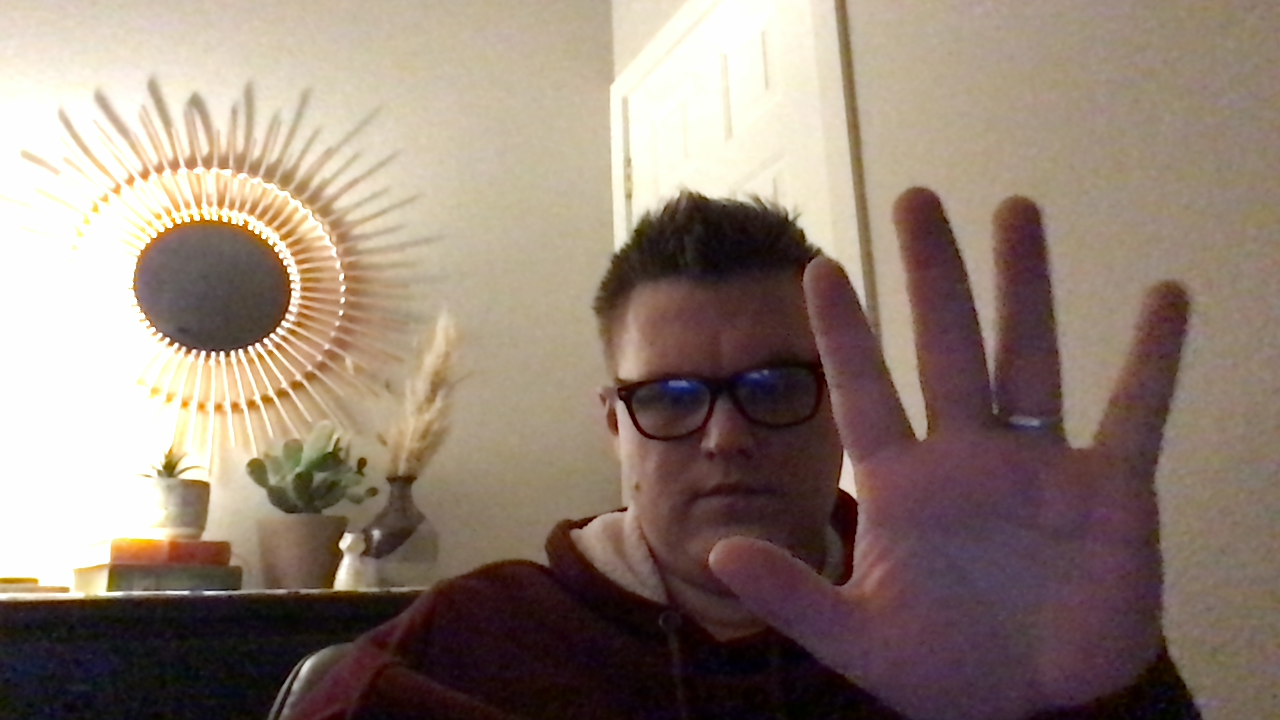hello: (703, 179, 1220, 720)
